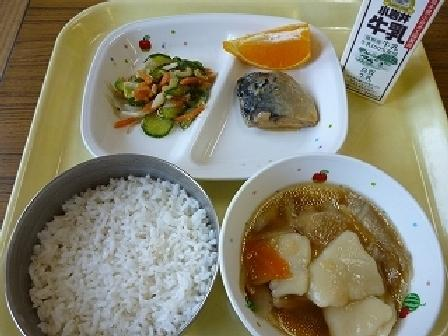Citrus: (222, 12, 324, 68)
Fish: (231, 68, 323, 139)
Milk: (331, 0, 446, 95)
Rice: (10, 149, 221, 335)
Salad: (116, 43, 208, 137)
Soups: (218, 153, 441, 335)
